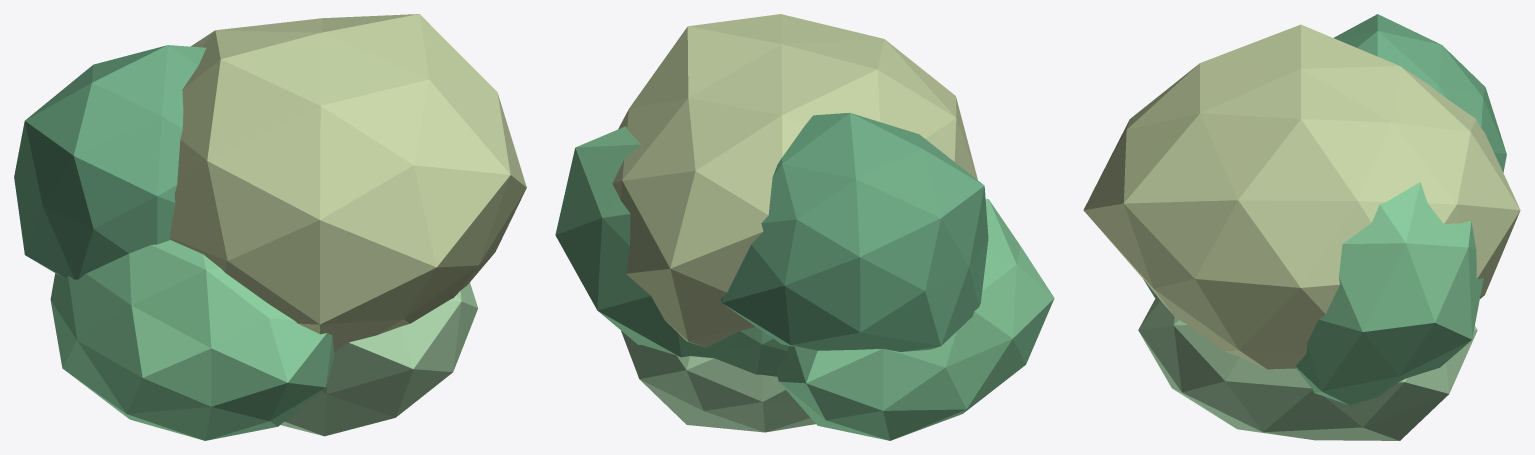
The model's file is bush_round.glb.
3 renders of one model, left to right at view 1: azimuth 30°, elevation 25°; view 2: azimuth 150°, elevation 25°; view 3: azimuth 270°, elevation 25°, orthographic. The views are drawn at different scales.
Parts seen in each view (by area): view 1: bush_round_leaf_sage, bush_round_leaf_mid, bush_round_leaf_dark, bush_round_leaf_light; view 2: bush_round_leaf_sage, bush_round_leaf_dark, bush_round_leaf_mid, bush_round_leaf_light; view 3: bush_round_leaf_sage, bush_round_leaf_mid, bush_round_leaf_light, bush_round_leaf_dark.
Boxes of the visible parts, x1,y1,x2,y2 form: bush_round_leaf_sage: (169,14,526,351); bush_round_leaf_mid: (50,240,334,440); bush_round_leaf_dark: (14,45,206,279); bush_round_leaf_light: (280,282,478,436); bush_round_leaf_sage: (612,14,977,347); bush_round_leaf_dark: (721,112,988,351); bush_round_leaf_mid: (555,126,1054,440); bush_round_leaf_light: (621,331,815,432); bush_round_leaf_sage: (1083,24,1520,369); bush_round_leaf_mid: (1143,182,1483,405); bush_round_leaf_light: (1138,296,1477,440); bush_round_leaf_dark: (1334,14,1506,172).
Size of the model in its own units: 1.37 by 1.17 by 1.28.
